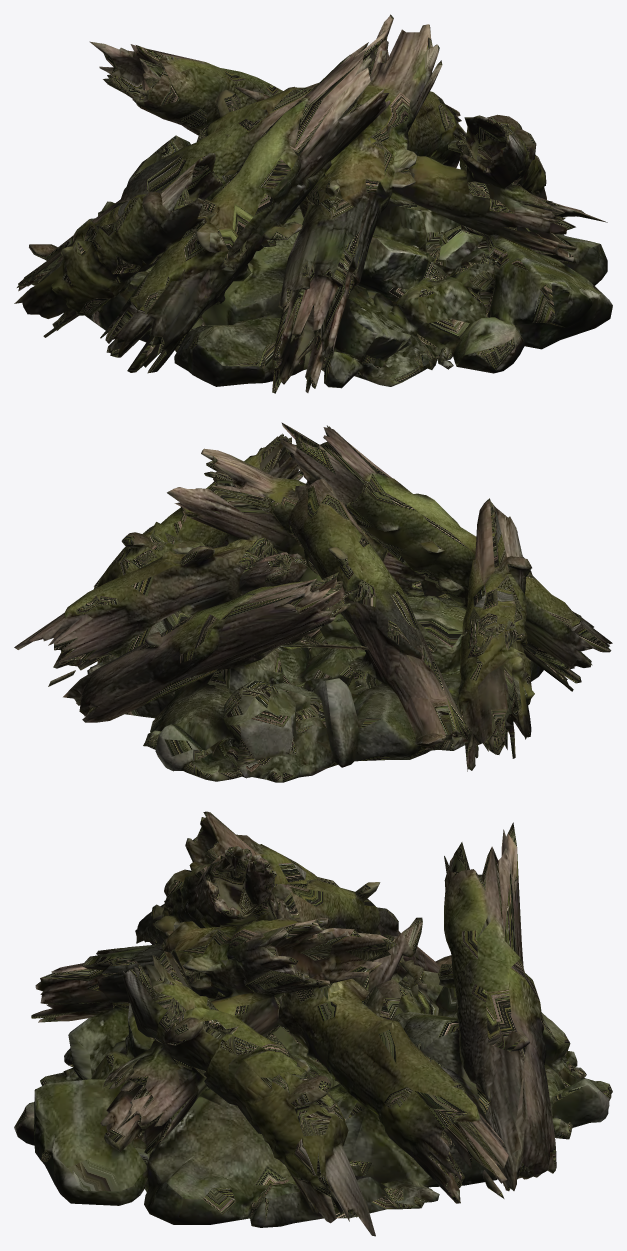
File: Mossy_Timber_Ruins.glb
3 views of the same model, one above another, from view 1: azimuth 30°, elevation 25°; view 2: azimuth 150°, elevation 25°; view 3: azimuth 270°, elevation 25° (orthographic). The views are drawn at different scales.
Visible parts, largest first — view 1: Mossy_Timber_Ruins; view 2: Mossy_Timber_Ruins; view 3: Mossy_Timber_Ruins.
Part boxes in pixels (x1=…): Mossy_Timber_Ruins: x1=14, y1=14, x2=612, y2=393; Mossy_Timber_Ruins: x1=14, y1=422, x2=612, y2=782; Mossy_Timber_Ruins: x1=14, y1=811, x2=612, y2=1236.
Bounding box in the file's own units: 1.9 × 0.9383 × 1.78.
1 material, 1 textured.
